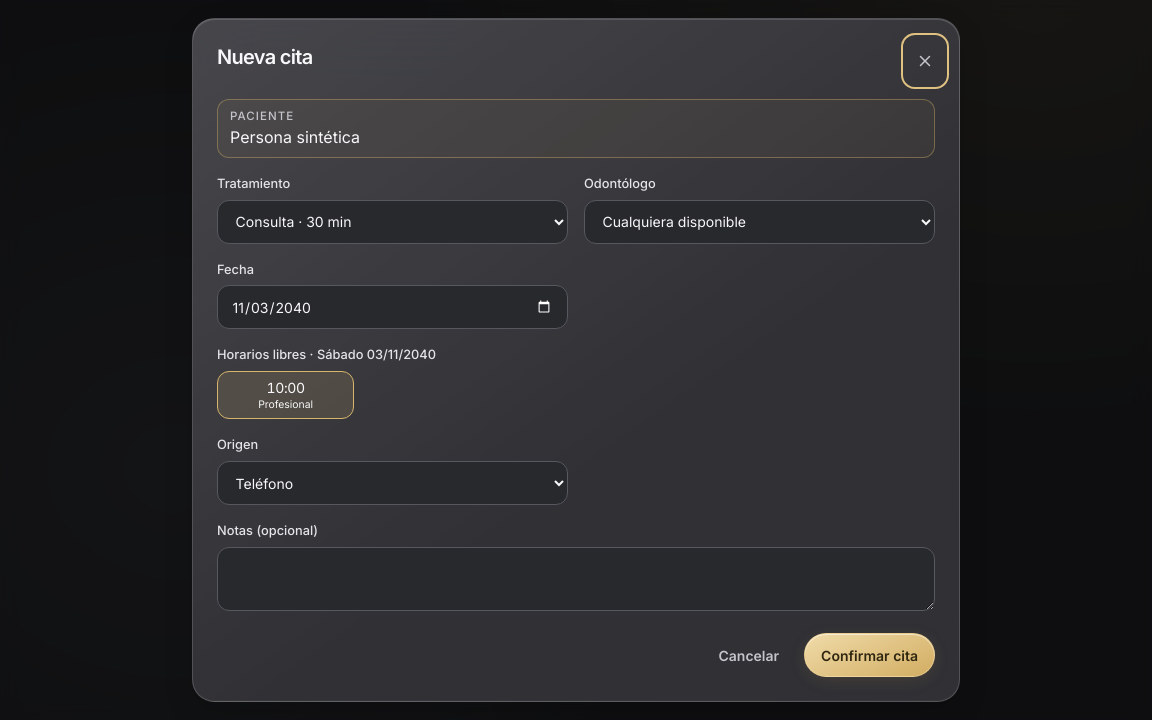
Scenario: formularios de citas: recuperación y selección vigente › un rechazo al confirmar libera Guardando y conserva el aviso de revisar la agenda
The image size is (1152, 720).
Check: the button "10:00 Profesional" is shown, box [217, 371, 354, 420]
Click the button "Confirmar cita": [870, 655] box [804, 633, 935, 677]
(page scrolled)
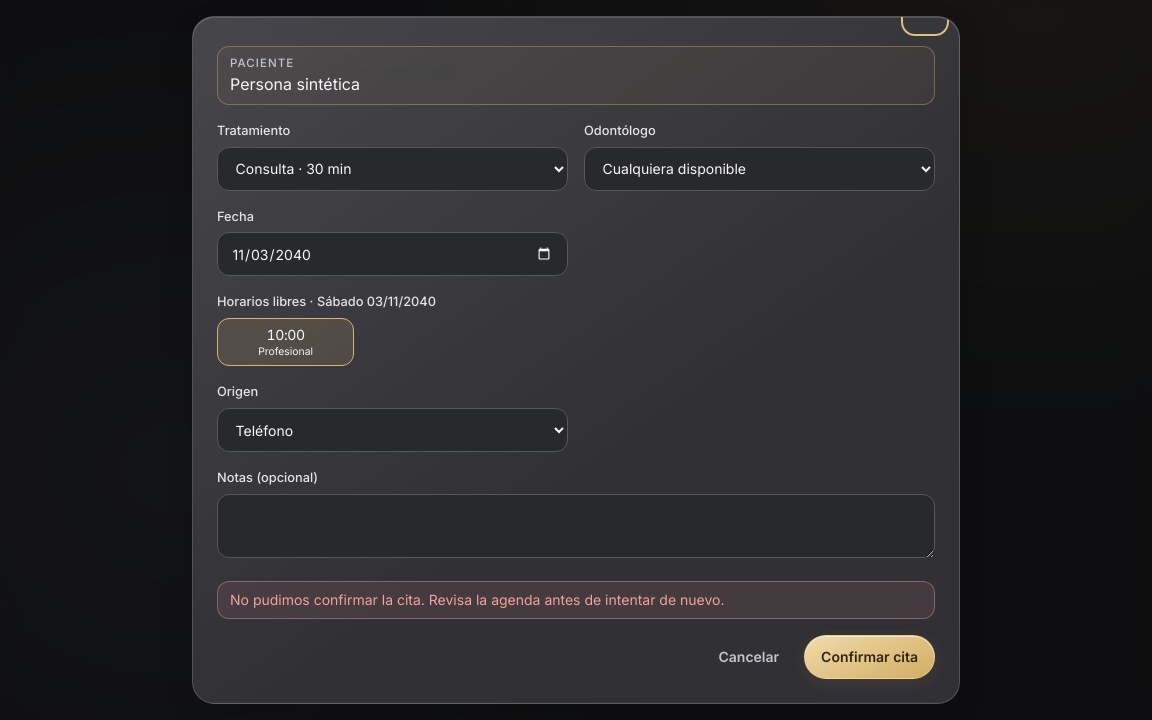
Check: the message shows "Revisa la agenda", box [230, 591, 724, 608]
